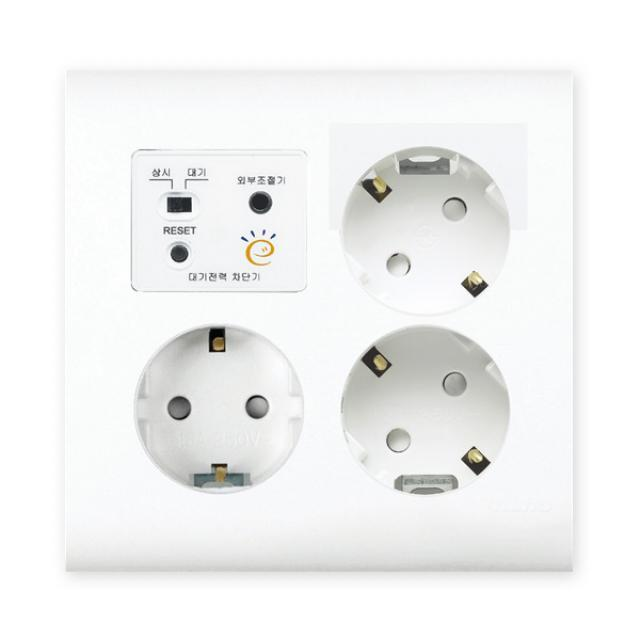typeb: (57, 53, 608, 632)
